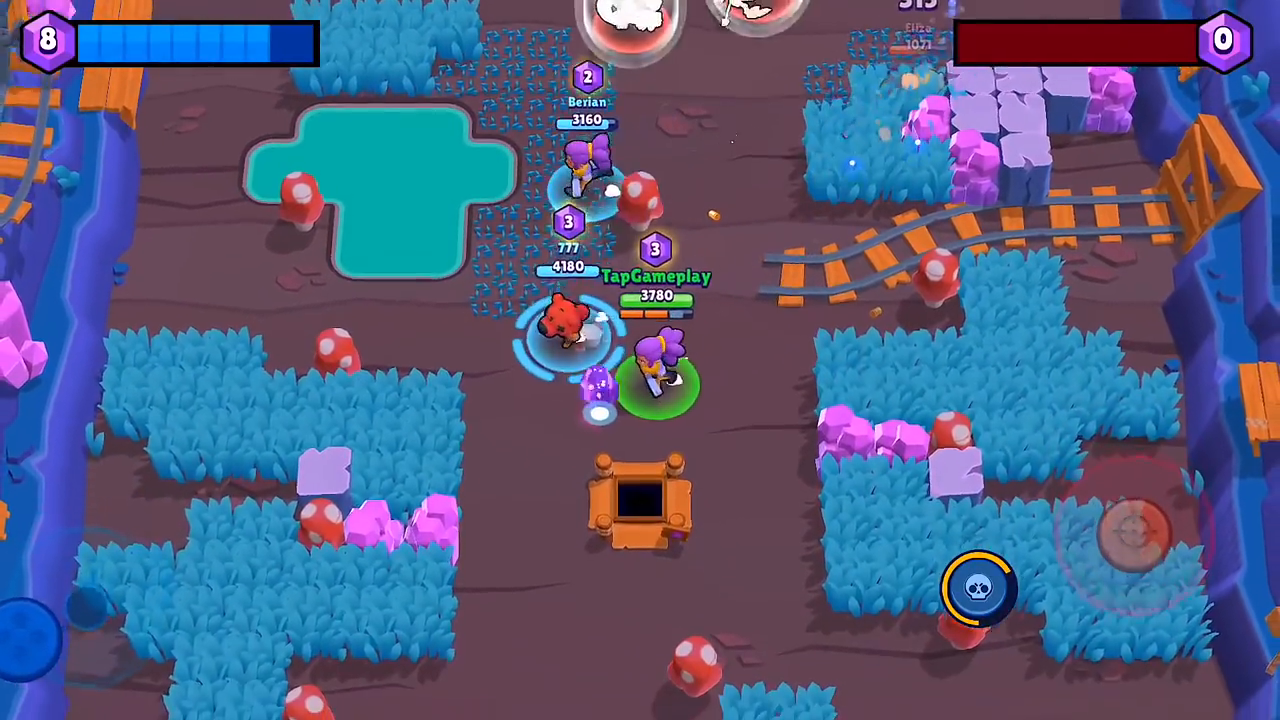move_stick: (1, 599, 51, 687)
red: (579, 1, 671, 58), (716, 1, 811, 47)
